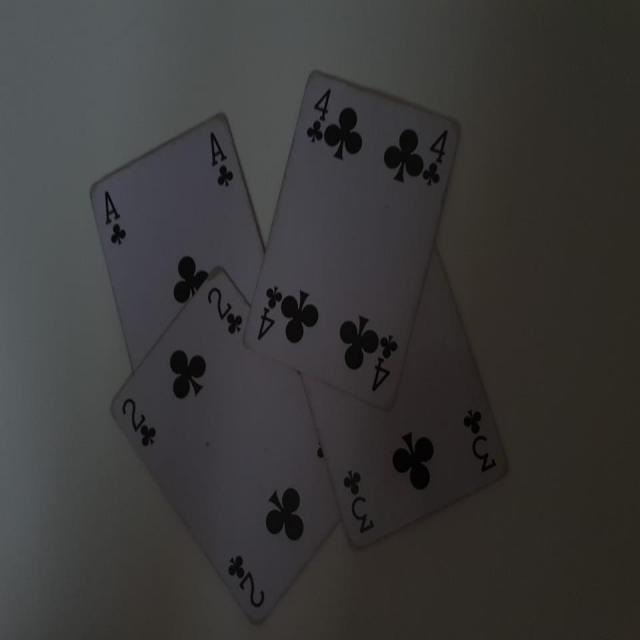2 Trefoils: (107, 266, 342, 628)
3 Trefoils: (299, 236, 510, 548)
4 Trefoils: (242, 71, 461, 412)
A Trefoils: (87, 109, 266, 370)
